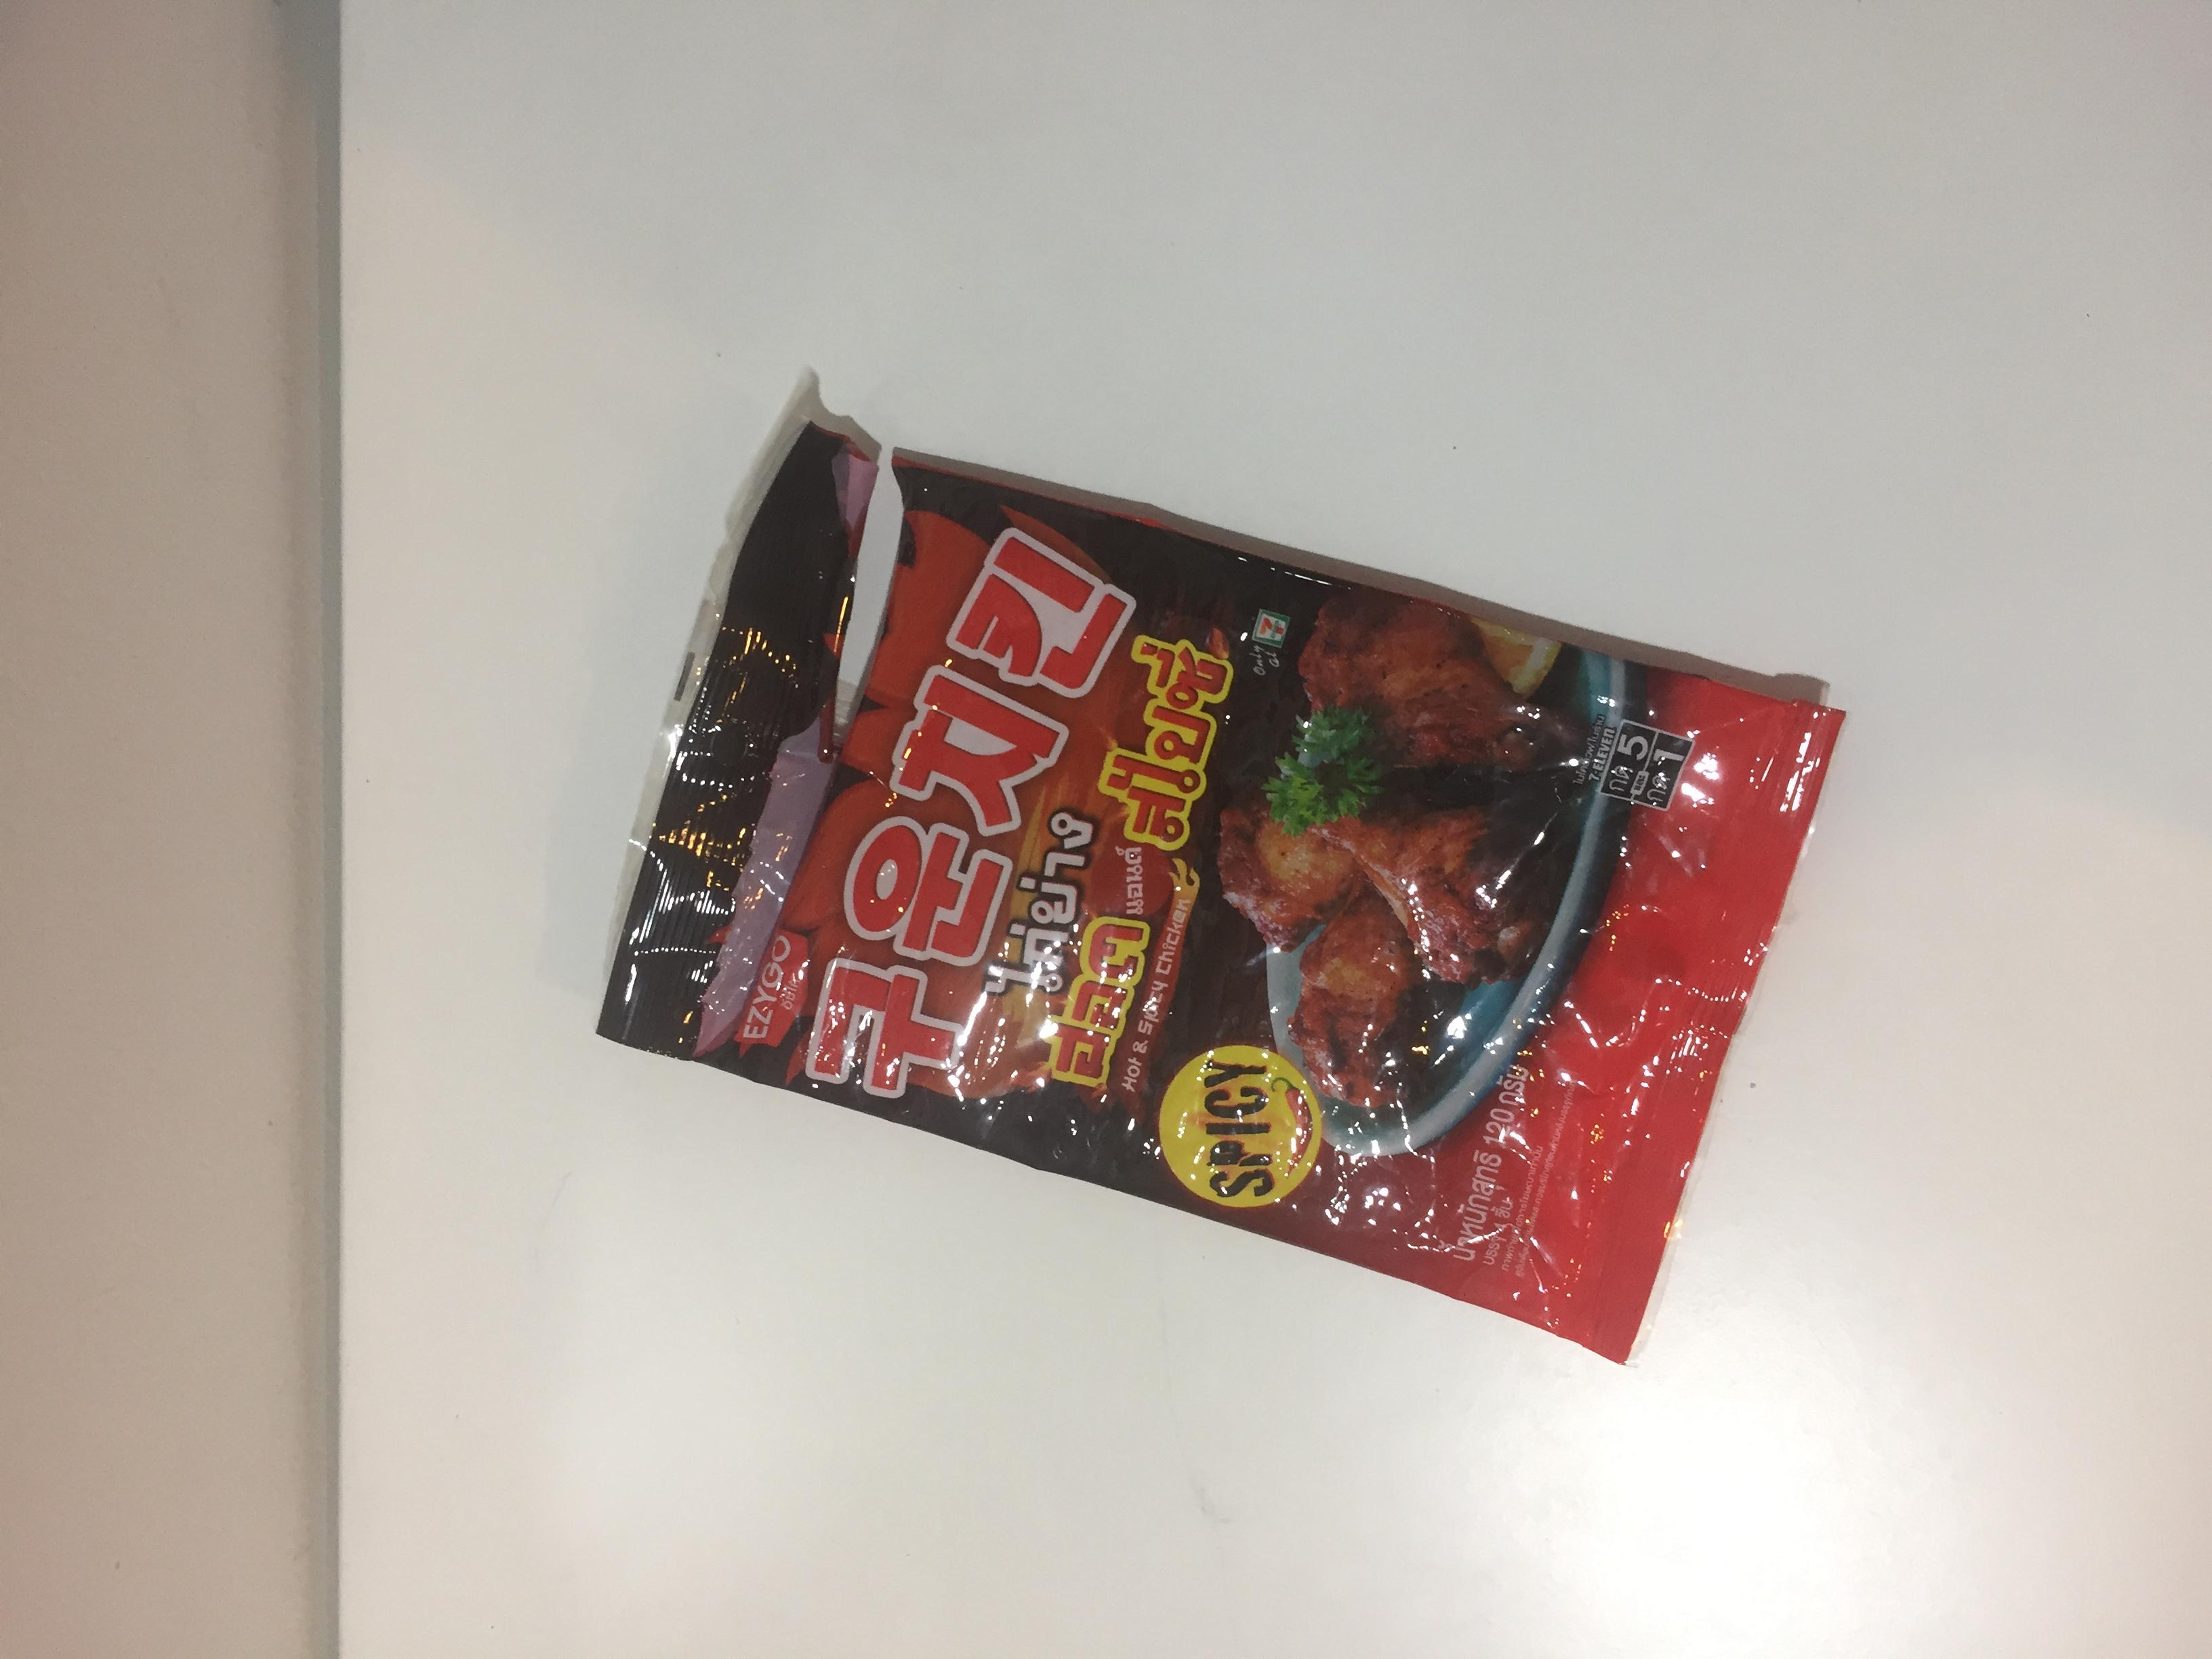plastic: (296, 427, 1721, 1415)
